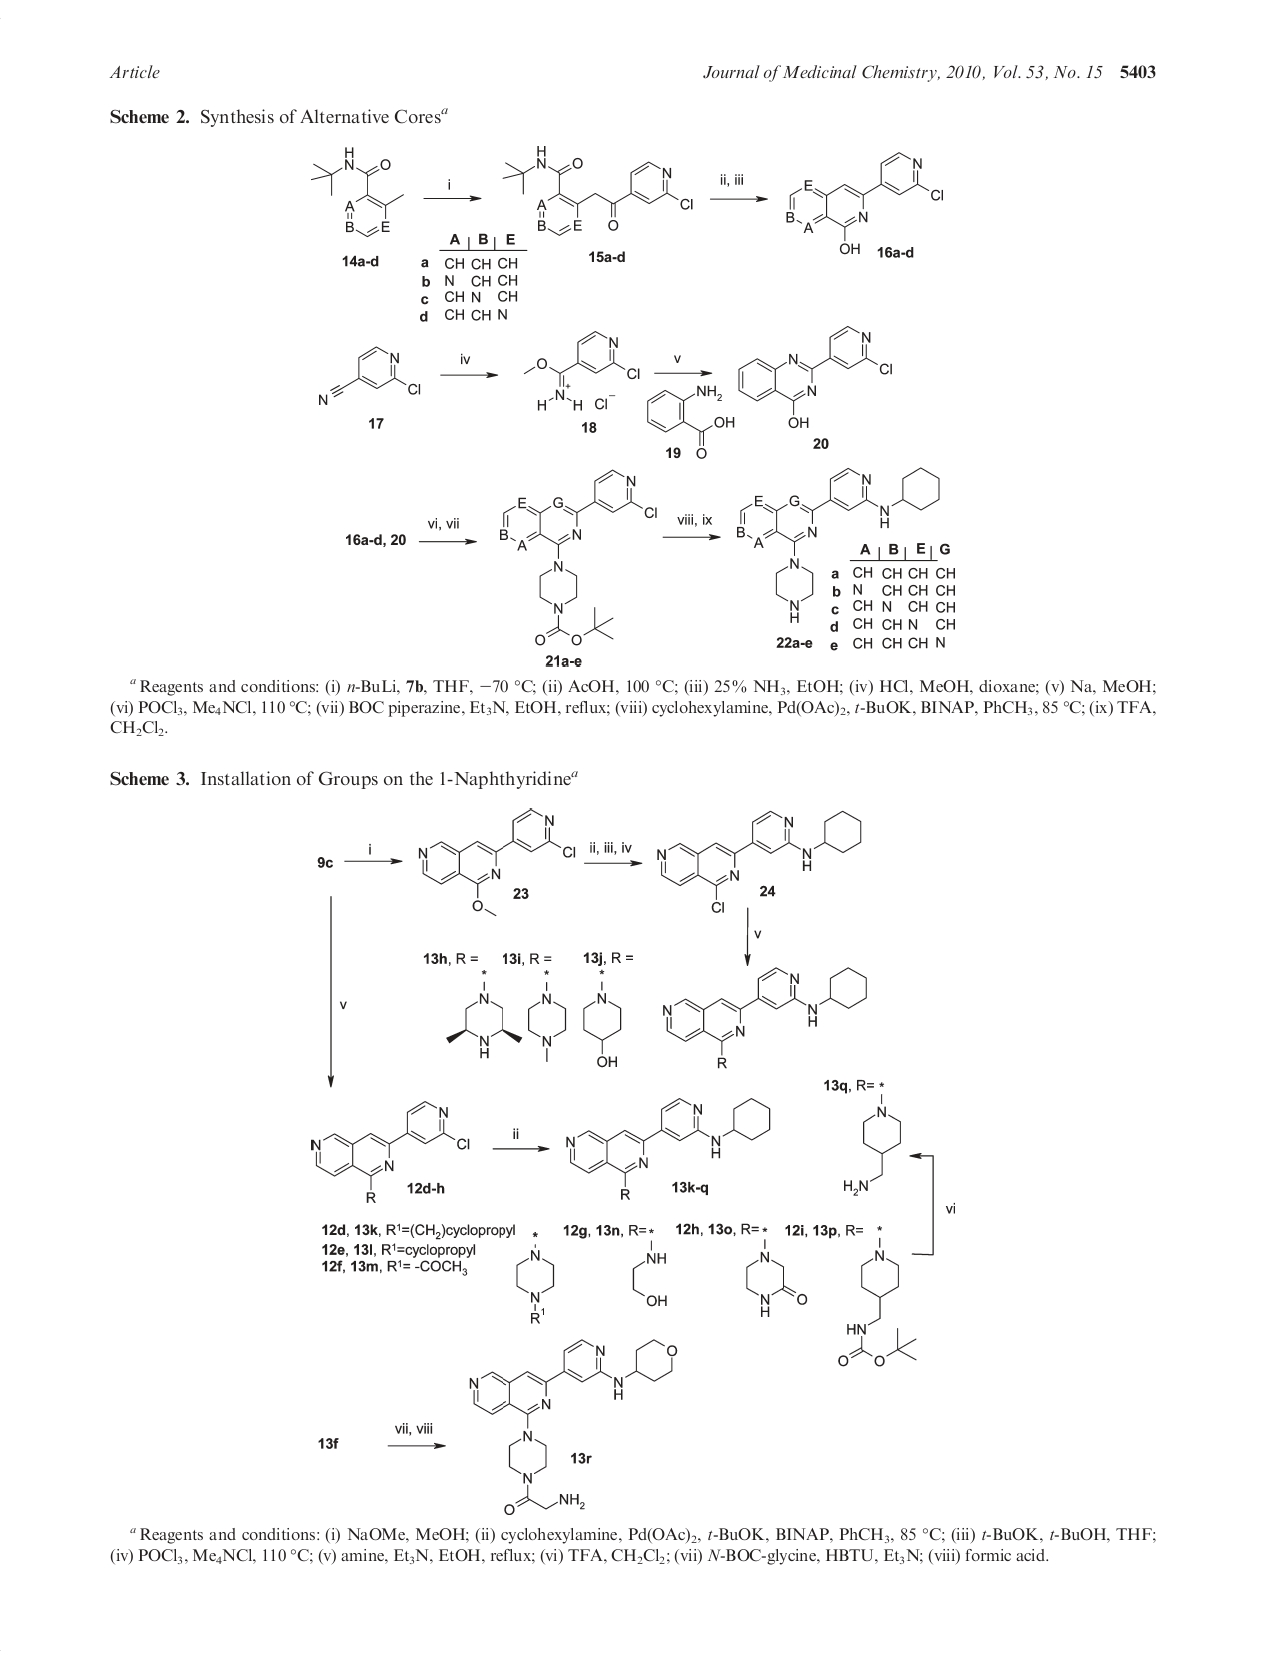exist_molecular: (463, 1338, 688, 1519), (733, 460, 944, 624), (493, 465, 672, 653), (555, 1091, 777, 1202), (657, 802, 867, 918), (664, 960, 876, 1073), (404, 807, 582, 915), (503, 144, 697, 239), (785, 145, 952, 255), (305, 1098, 473, 1205), (737, 322, 894, 434), (516, 324, 644, 424), (828, 1235, 922, 1371), (310, 141, 412, 239), (640, 376, 738, 461), (835, 1092, 910, 1204), (313, 339, 427, 404), (440, 983, 527, 1064), (742, 1235, 809, 1325), (576, 977, 636, 1068), (508, 1241, 569, 1329), (520, 973, 574, 1071), (629, 1235, 678, 1307)
